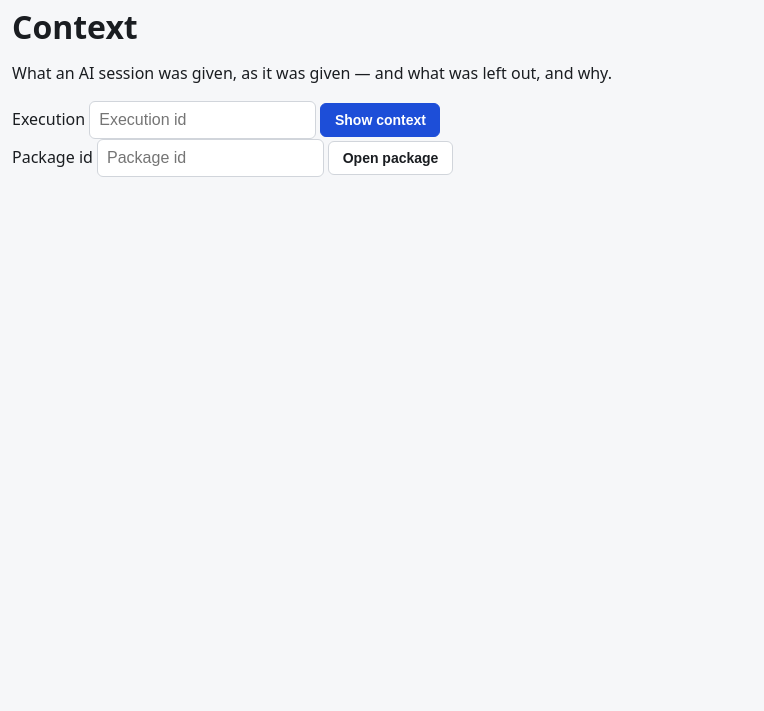
Scenario: T1268 · the Context screen › states drift beside the retained item, without replacing it
In the field labelled "Execution": coordinates (203, 120) [89,101,316,139], type "ex_1"
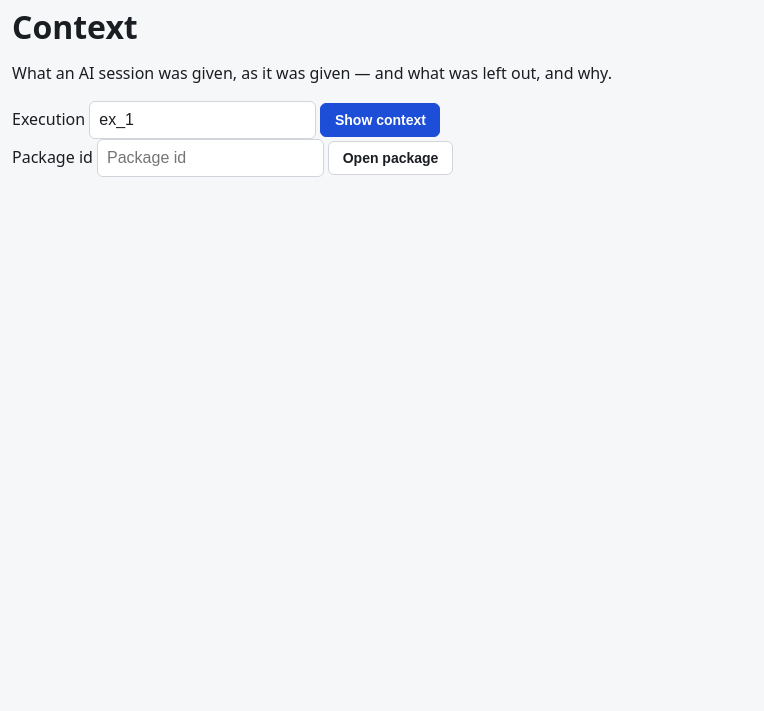
Click the button "Show context": coordinates (380, 120) [320,103,440,137]
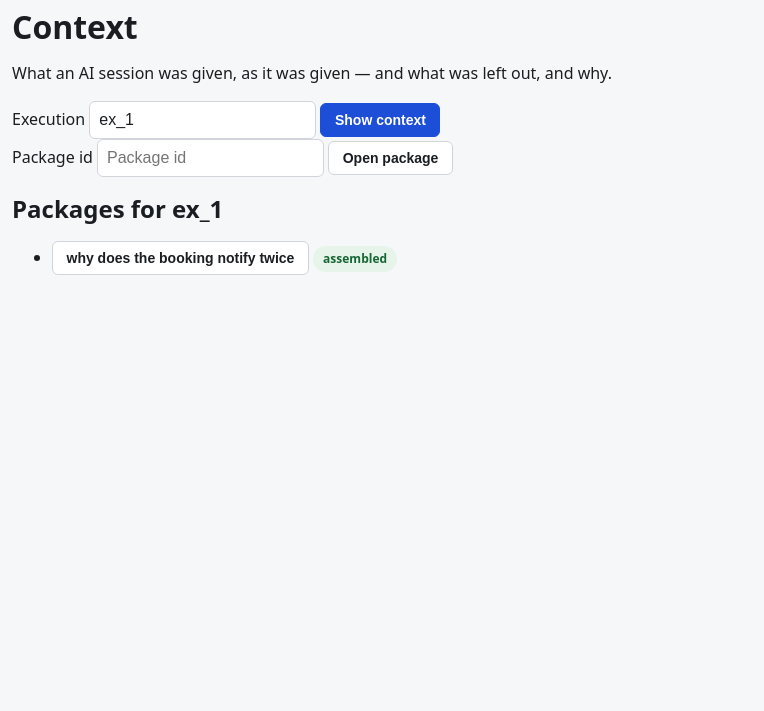
Result: the heading "Packages for ex_1" is shown at [12,192,223,225]
Click the button "why does the booking notify twice": coordinates (180, 258) [52,241,309,275]
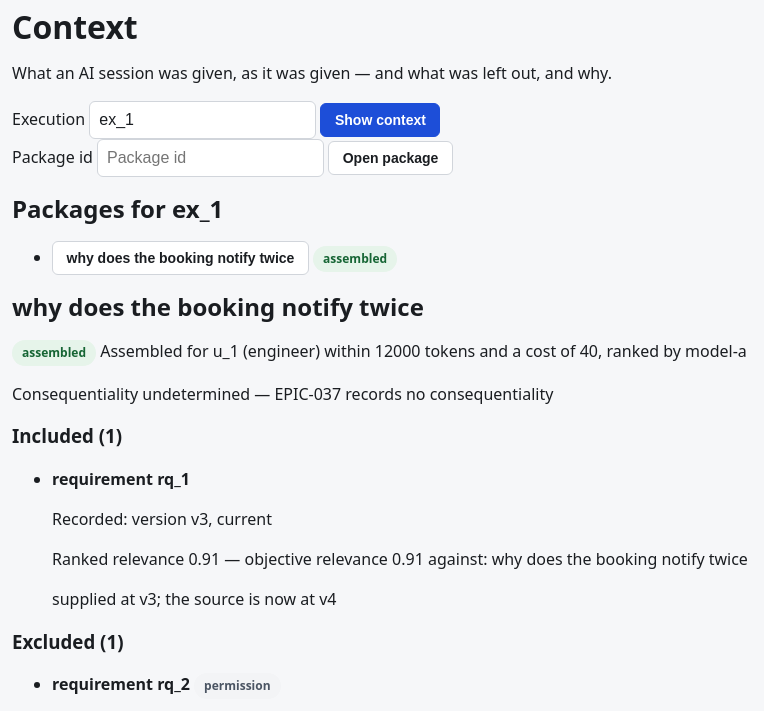
Result: the text "supplied at v3; the source is now at v4" is shown at [52,588,336,610]
